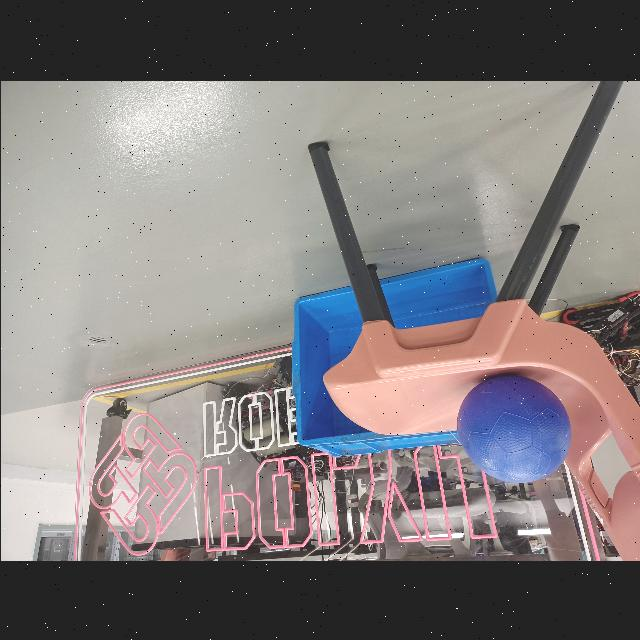B: (456, 371, 572, 482)
